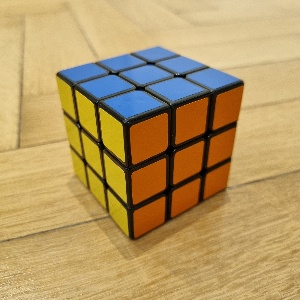cube: (56, 45, 244, 241)
